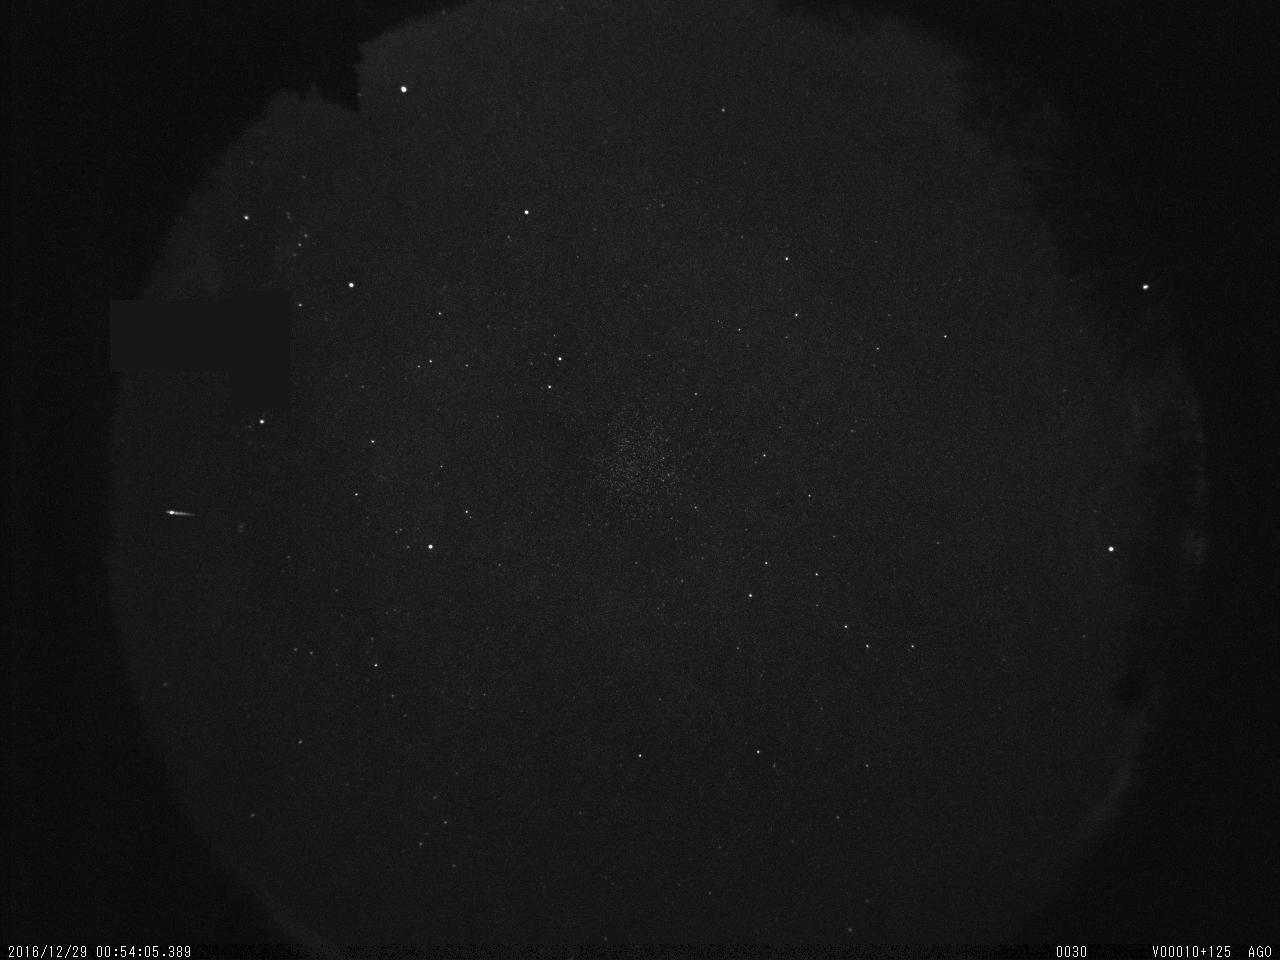meteor: (154, 493, 212, 537)
